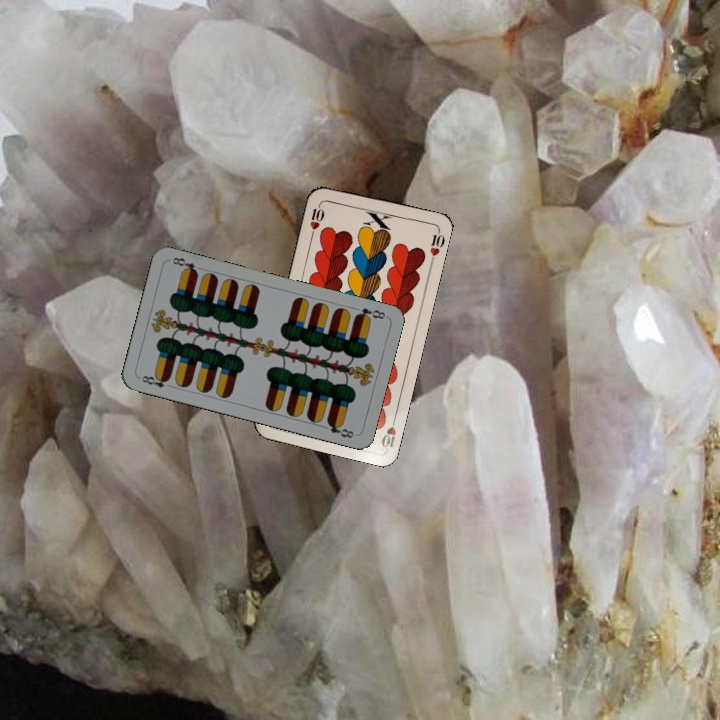E8: (136, 371, 175, 391), (351, 304, 388, 323)
H10: (377, 411, 399, 452), (306, 199, 327, 239)
